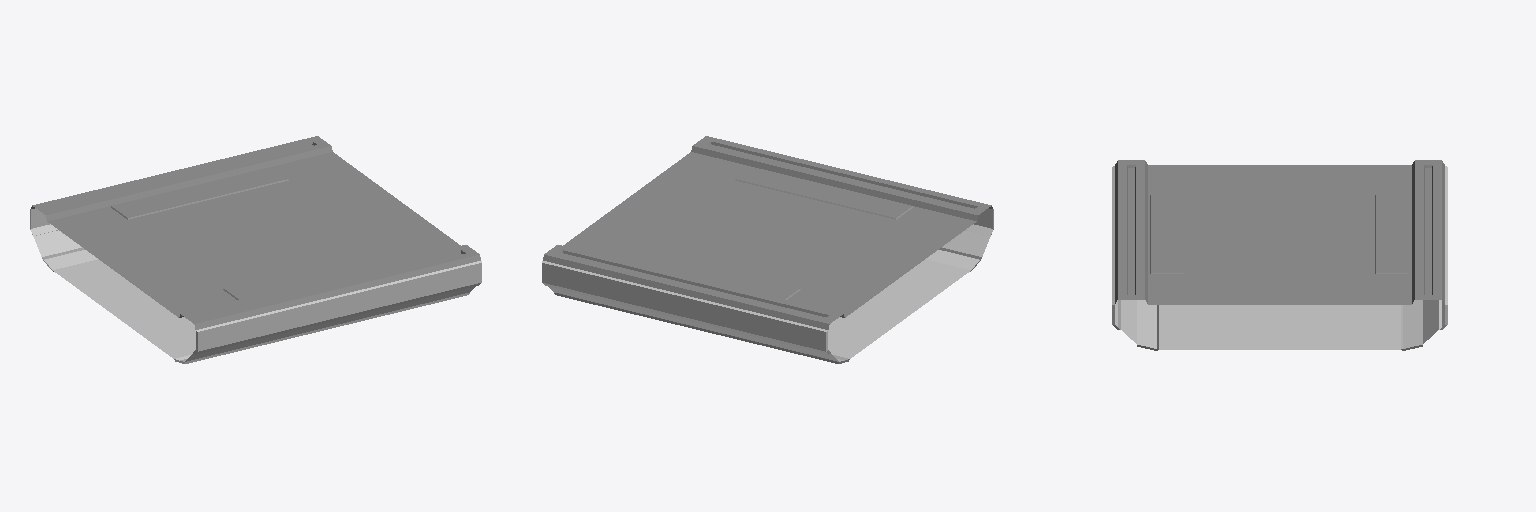
Rendered from plataforma.obj.
3 views of the same model, side by side, from view 1: azimuth 30°, elevation 25°; view 2: azimuth 150°, elevation 25°; view 3: azimuth 270°, elevation 25° (orthographic).
Visible parts, largest first — view 1: Platform6x6_ncl1_1; view 2: Platform6x6_ncl1_1; view 3: Platform6x6_ncl1_1.
Part boxes in pixels (x1,y1,x2,y2): Platform6x6_ncl1_1: (30,136,481,363); Platform6x6_ncl1_1: (542,136,993,363); Platform6x6_ncl1_1: (1112,160,1447,350).
Size of the model in its own units: 45.07 by 7.84 by 45.82.